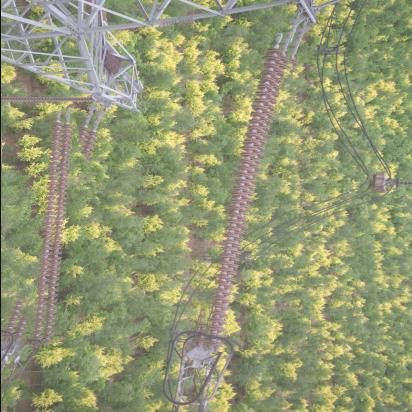insulator: (188, 36, 307, 353), (1, 112, 116, 345)
